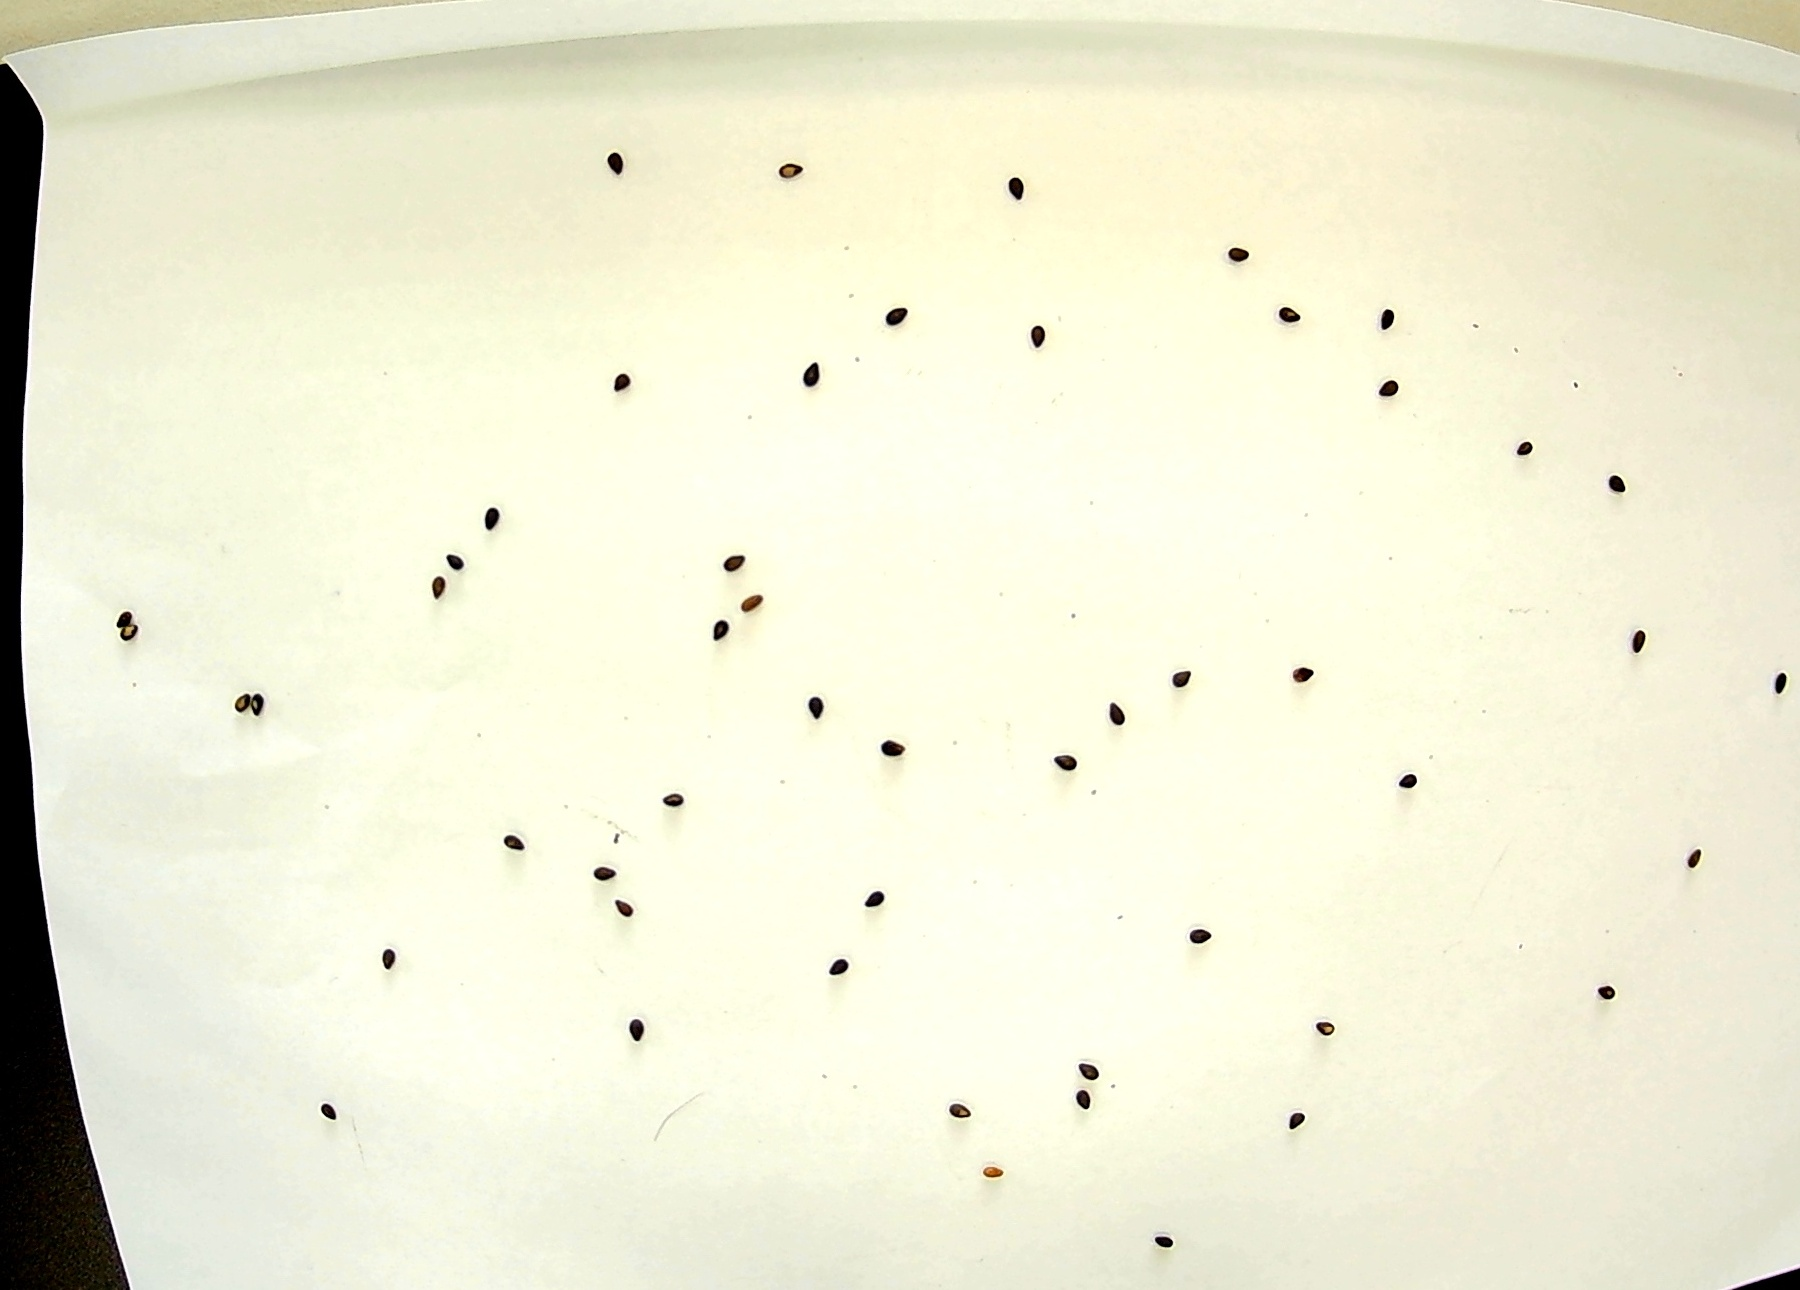sesami: (1173, 916, 1228, 956), (476, 501, 520, 543), (788, 357, 837, 395), (942, 1089, 980, 1135), (862, 737, 915, 769), (1624, 620, 1665, 662), (1676, 840, 1722, 875), (1755, 666, 1794, 706), (1100, 692, 1139, 733), (973, 1150, 1012, 1191), (313, 1095, 345, 1143), (1268, 300, 1314, 334), (1305, 1011, 1342, 1050), (1047, 747, 1088, 780), (1055, 1083, 1104, 1111), (758, 158, 805, 186), (1155, 658, 1194, 691), (1288, 1103, 1319, 1145), (99, 598, 142, 627), (795, 697, 839, 726), (696, 611, 733, 646), (714, 551, 753, 584), (615, 1008, 647, 1047), (1151, 1231, 1187, 1265), (599, 145, 627, 187), (1289, 653, 1319, 691), (495, 826, 539, 852), (1393, 764, 1422, 800), (1372, 381, 1413, 406), (1588, 979, 1626, 1007), (607, 364, 638, 396), (248, 676, 268, 726), (412, 577, 455, 599), (1374, 303, 1397, 346), (604, 895, 640, 921), (435, 553, 476, 577), (823, 951, 847, 988), (585, 860, 620, 885), (226, 687, 251, 722), (740, 593, 769, 623), (374, 947, 400, 979), (1227, 244, 1264, 267), (873, 303, 913, 324), (1077, 1055, 1107, 1083), (1010, 172, 1035, 204), (1024, 322, 1049, 353), (1600, 472, 1624, 503), (864, 887, 885, 920), (1515, 437, 1540, 464), (112, 624, 147, 642), (657, 792, 691, 807)
